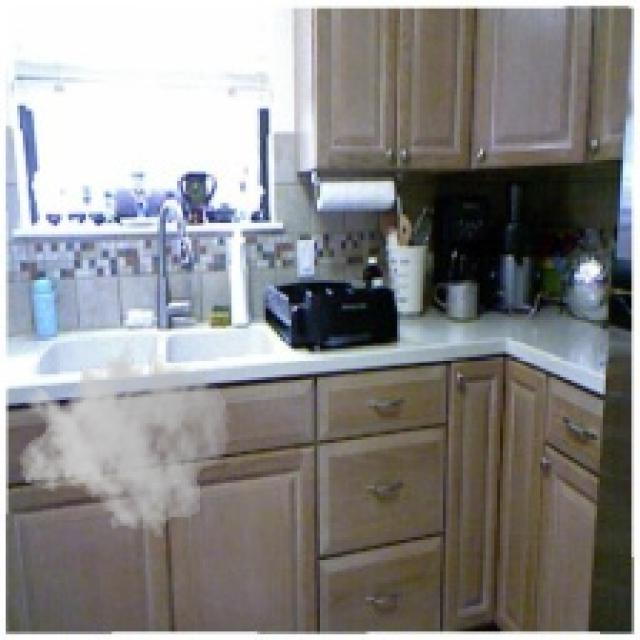Smoke: (18, 331, 232, 543)
